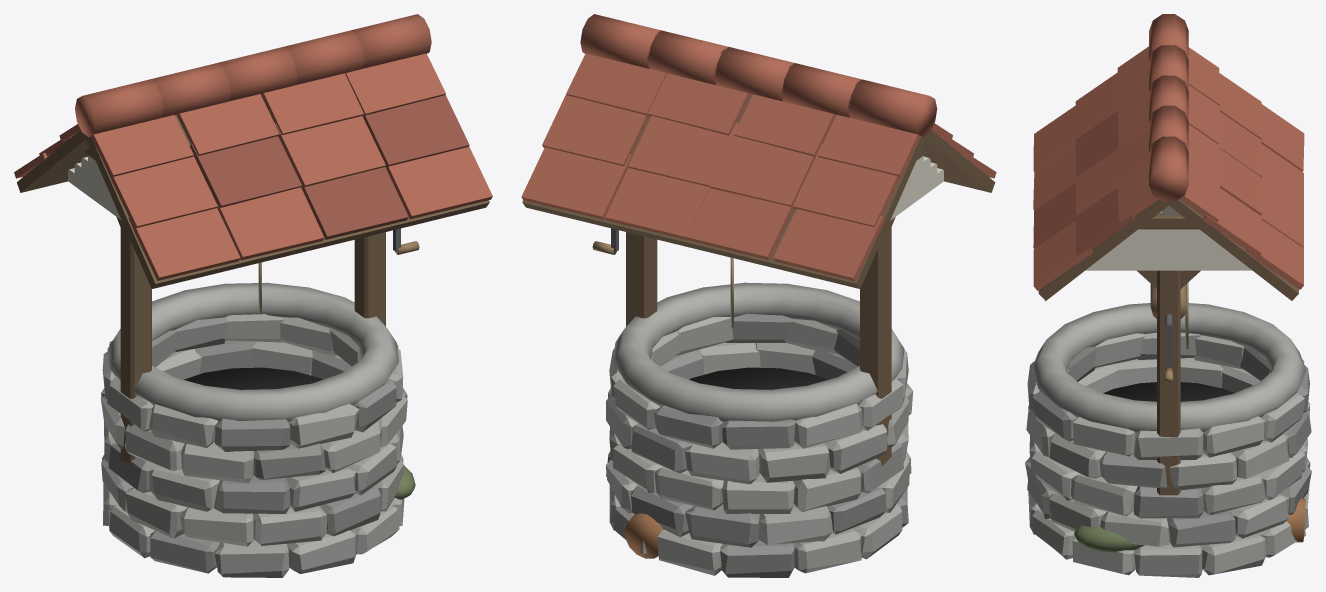
File: v_well.glb
3 views of the same model, side by side, from view 1: azimuth 30°, elevation 25°; view 2: azimuth 150°, elevation 25°; view 3: azimuth 270°, elevation 25° (orthographic). The views are drawn at different scales.
Parts seen in each view (by area): view 1: Well; view 2: Well; view 3: Well.
Part boxes in pixels (x1=…): Well: x1=14, y1=14, x2=492, y2=577; Well: x1=521, y1=14, x2=996, y2=577; Well: x1=1025, y1=14, x2=1311, y2=577.
Size of what is drawn, in the model's own units: 2.01 by 2.64 by 1.59.
